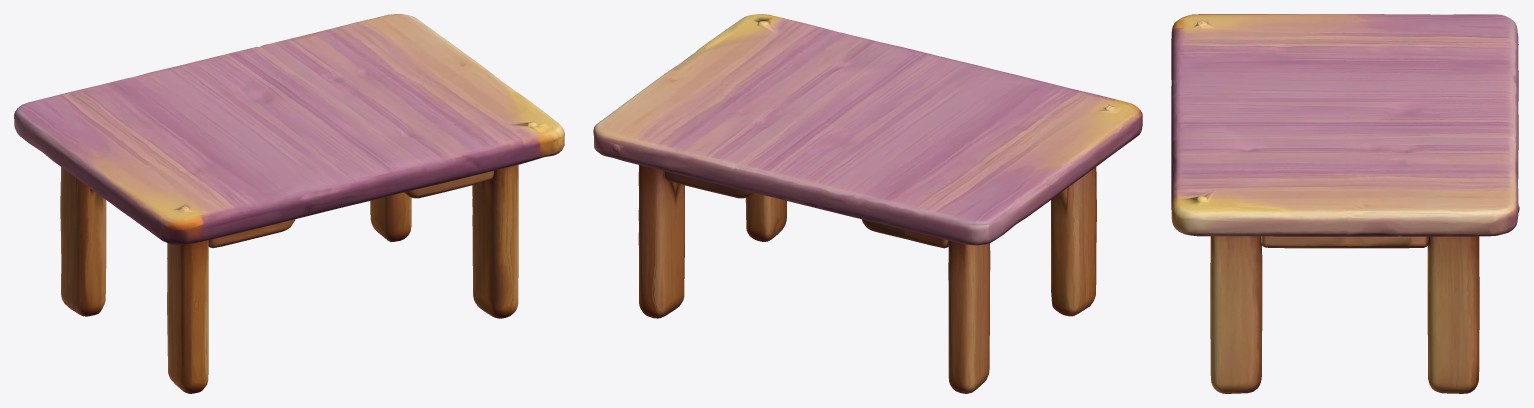
File: desk_pink.glb
The picture shows the model from 3 angles, left to right: view 1: azimuth 30°, elevation 25°; view 2: azimuth 150°, elevation 25°; view 3: azimuth 270°, elevation 25°; orthographic projection. The views are drawn at different scales.
Visible parts, largest first — view 1: tripo_node_4e9b0329-9e73-4313-80e7-d37ea396dcee; view 2: tripo_node_4e9b0329-9e73-4313-80e7-d37ea396dcee; view 3: tripo_node_4e9b0329-9e73-4313-80e7-d37ea396dcee.
Boxes of the visible parts, <box> form: tripo_node_4e9b0329-9e73-4313-80e7-d37ea396dcee: <box>14,14,564,393</box>; tripo_node_4e9b0329-9e73-4313-80e7-d37ea396dcee: <box>593,14,1142,393</box>; tripo_node_4e9b0329-9e73-4313-80e7-d37ea396dcee: <box>1171,14,1519,393</box>.
Size of the model in its own units: 0.98 by 0.4611 by 0.7102.
1 material, 1 textured.
